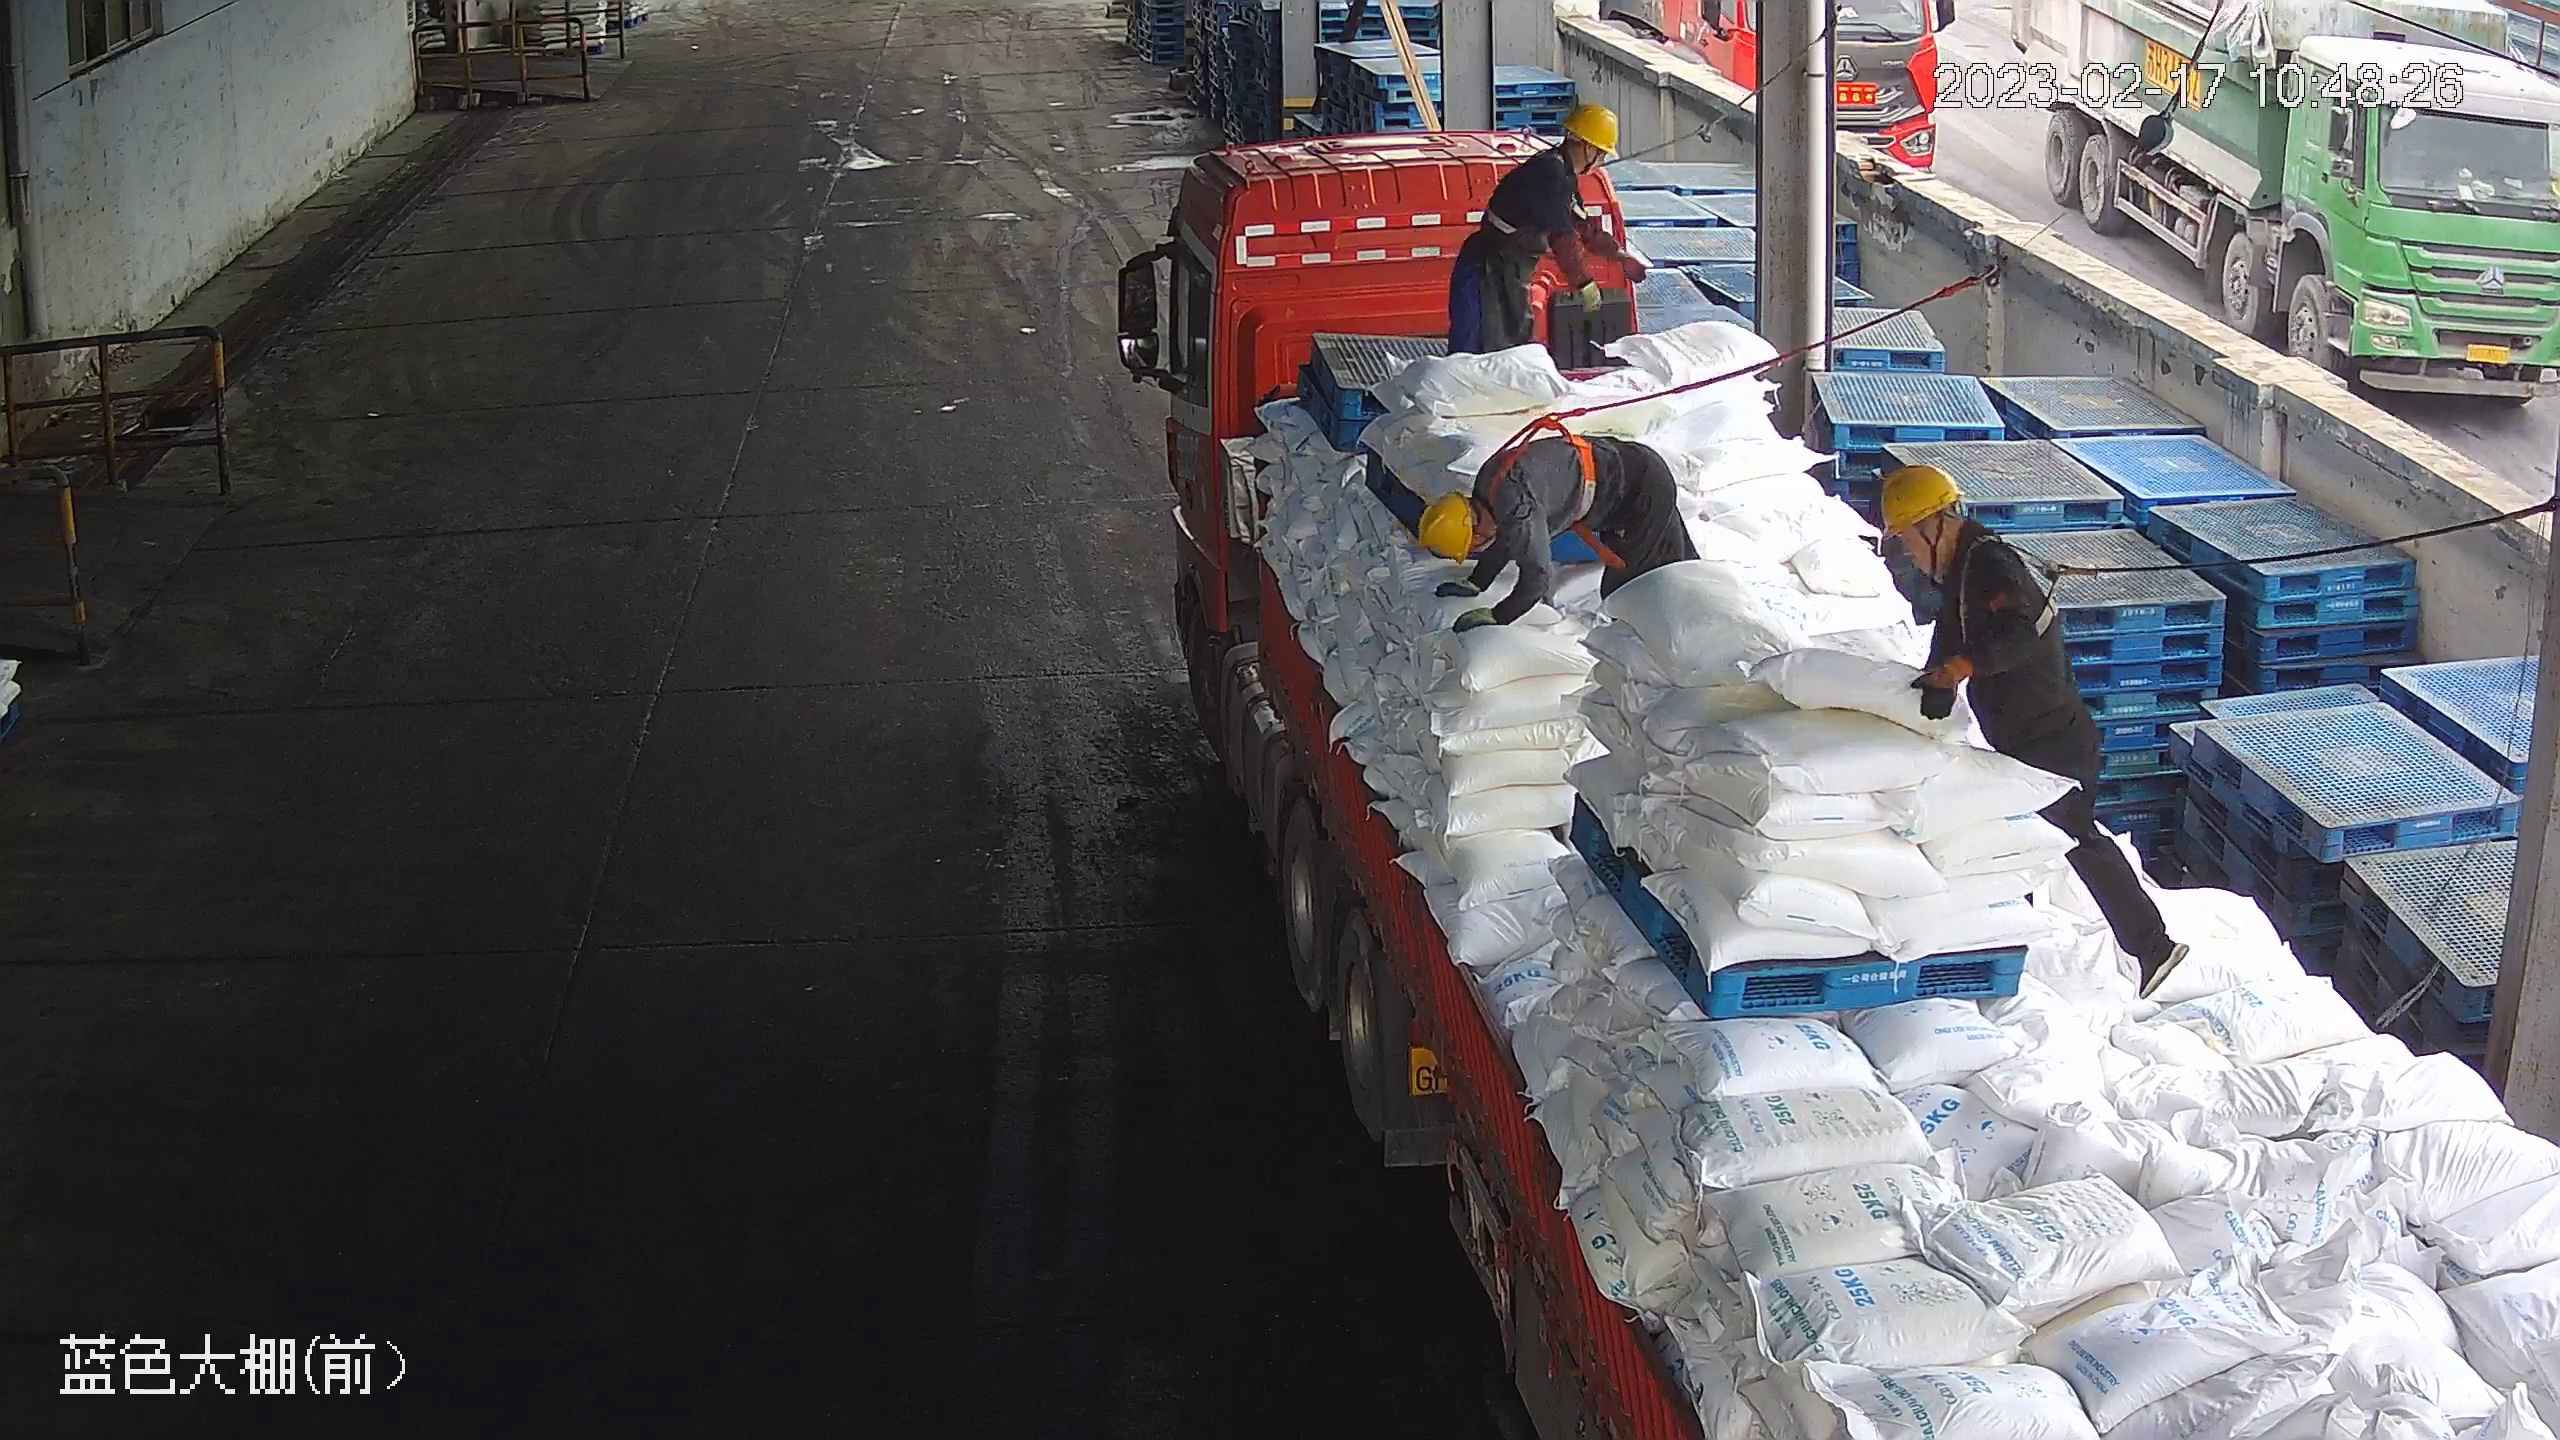belt: (1478, 399, 1600, 536), (1943, 533, 2074, 647), (1477, 143, 1575, 239)
head: (1877, 459, 2044, 596), (1412, 449, 1545, 562), (1508, 100, 1622, 200)
helmet: (1877, 460, 1964, 536), (1413, 489, 1477, 560), (1560, 101, 1619, 155)
people: (1879, 458, 2188, 1001), (1410, 426, 1696, 628), (1445, 102, 1650, 385)
truck: (1104, 123, 2557, 1437)
